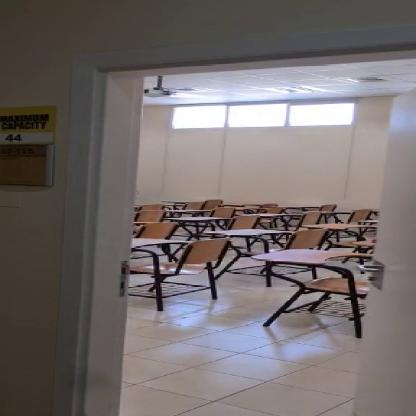open: (50, 37, 392, 408)
